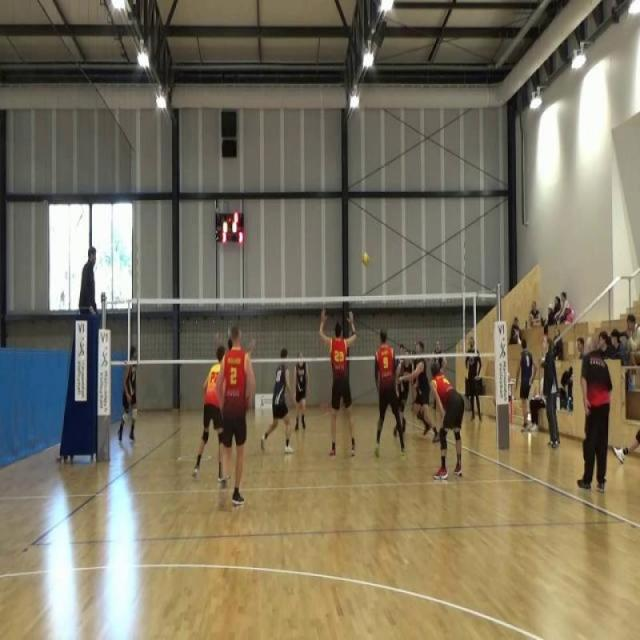volleyball: (361, 250, 372, 268)
